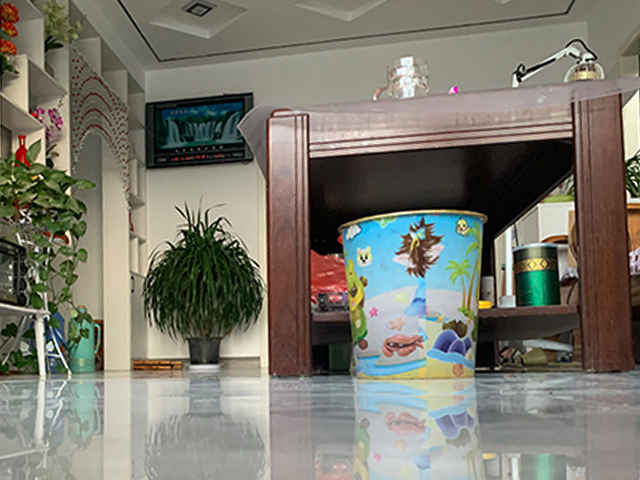cabinet: (100, 196, 149, 373)
table: (265, 77, 635, 378)
trashcan: (337, 209, 488, 381)
